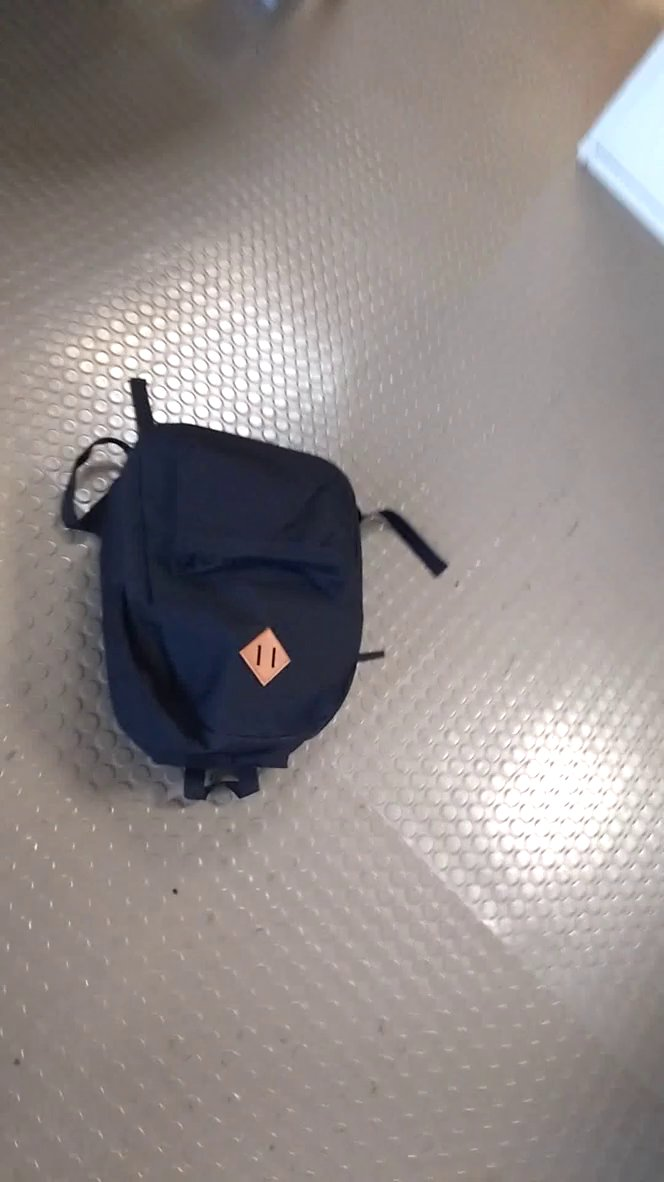bag: (60, 366, 456, 820)
